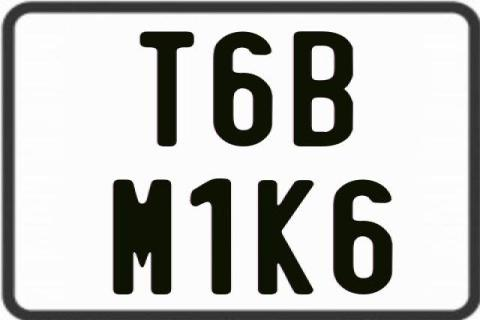0: (333, 180, 398, 298), (211, 29, 276, 145), (189, 177, 232, 293)
B: (293, 29, 352, 148)
K: (258, 177, 320, 297)
M: (110, 178, 172, 296)
T: (140, 30, 200, 146)
